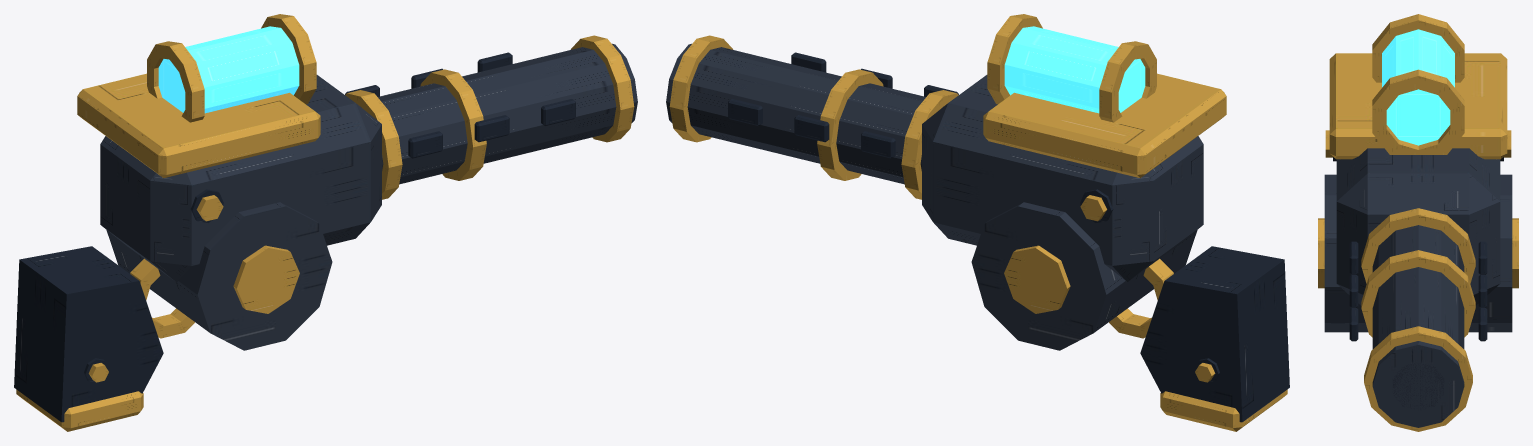
The model's file is autogun.glb.
3 views of the same model, side by side, from view 1: azimuth 30°, elevation 25°; view 2: azimuth 150°, elevation 25°; view 3: azimuth 270°, elevation 25° (orthographic).
Visible parts, largest first — view 1: body, barrel, grip, core; view 2: body, barrel, grip, core; view 3: body, barrel, core.
Part boxes in pixels (left/top/right/bottom): body: left=77, top=73, right=381, bottom=350; barrel: left=345, top=35, right=637, bottom=199; grip: left=14, top=246, right=163, bottom=431; core: left=147, top=14, right=316, bottom=122; body: left=922, top=73, right=1226, bottom=350; barrel: left=666, top=35, right=958, bottom=199; grip: left=1140, top=246, right=1289, bottom=431; core: left=987, top=14, right=1156, bottom=122; body: left=1318, top=53, right=1518, bottom=332; barrel: left=1349, top=208, right=1487, bottom=431; core: left=1372, top=14, right=1464, bottom=154.
Size of the model in its own units: 0.548 by 0.307 by 0.162.
Materials: 4 (4 with a texture image).
